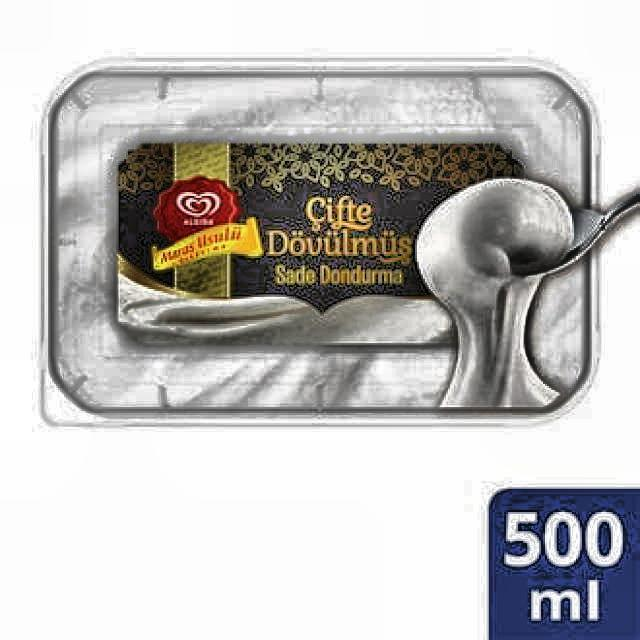plastic: (37, 61, 605, 430)
